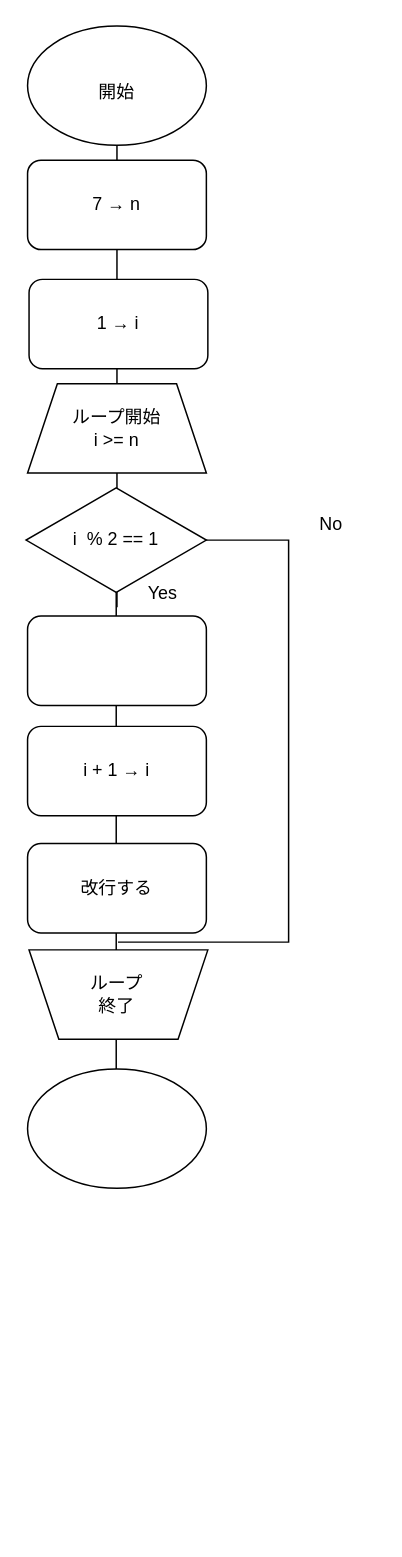
This 402x1557 diagram has some shape labels left out. Here are the shapes that lost their labels. From the top down, the centre of each, then its label:
At pixel 116 660: "iを 表示".
At pixel 116 1128: "終了".
